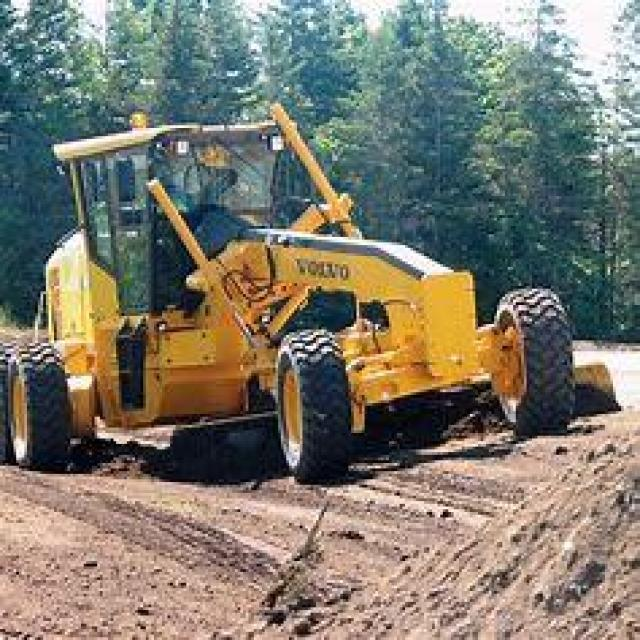Grader: (3, 101, 578, 504)
